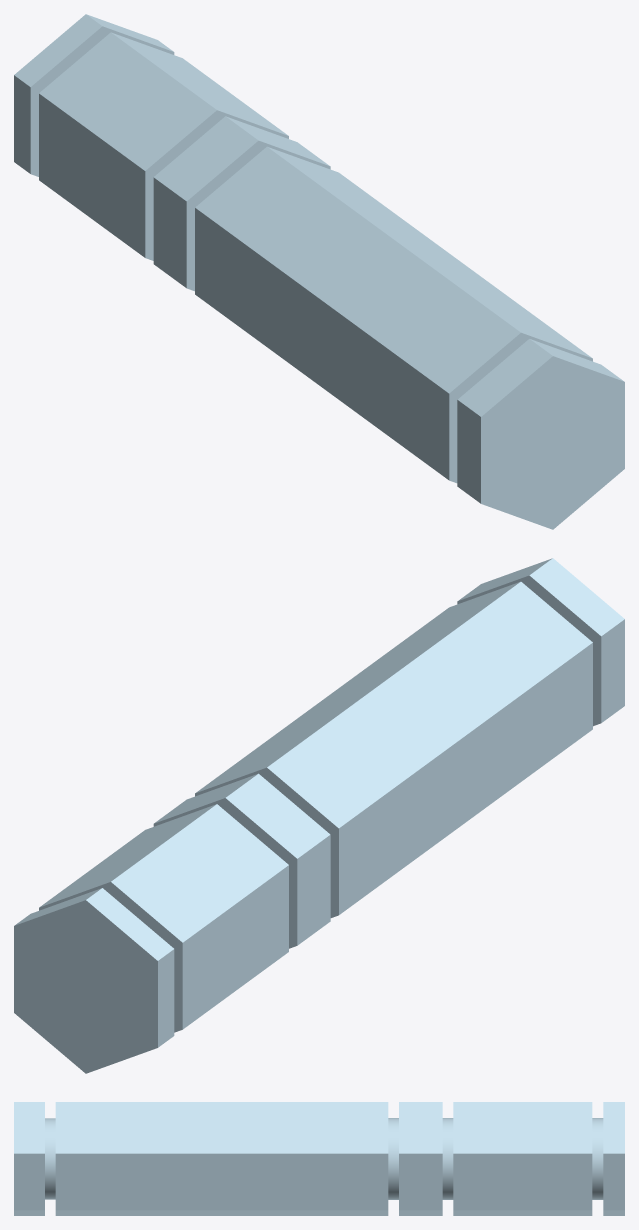
File: wheel-shaft.gltf
3 renders of one model, top to bottom at view 1: azimuth 30°, elevation 25°; view 2: azimuth 150°, elevation 25°; view 3: azimuth 270°, elevation 25°, orthographic. The views are drawn at different scales.
Parts seen in each view (by area): view 1: Part 1; view 2: Part 1; view 3: Part 1.
Boxes of the visible parts, x1=… form: Part 1: x1=14, y1=14, x2=624, y2=529; Part 1: x1=14, y1=558, x2=624, y2=1073; Part 1: x1=14, y1=1102, x2=624, y2=1215.
Size of the model in its own units: 0.0127 by 0.0147 by 0.0714.
